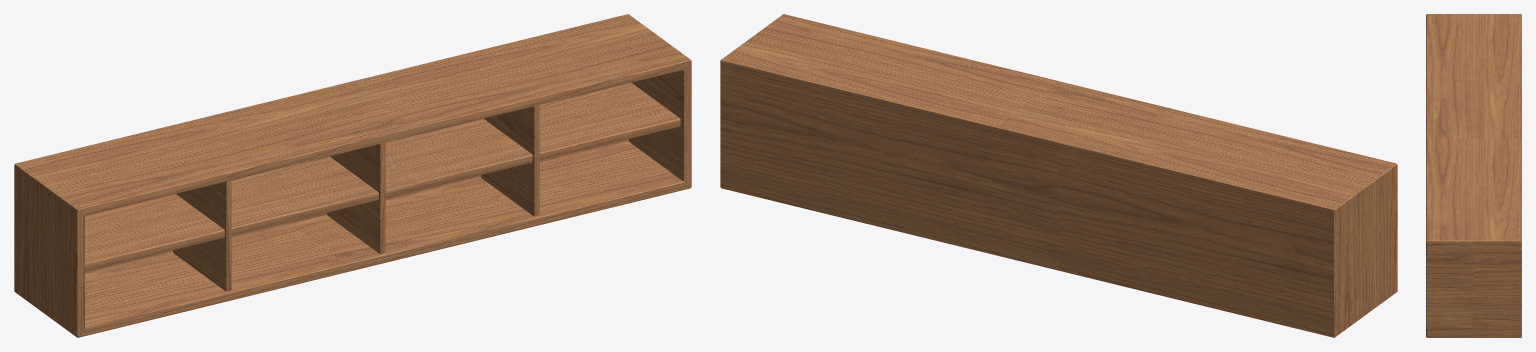
File: SM_shelf_02.fbx
3 views of the same model, side by side, from view 1: azimuth 30°, elevation 25°; view 2: azimuth 150°, elevation 25°; view 3: azimuth 270°, elevation 25° (orthographic). The views are drawn at different scales.
Parts seen in each view (by area): view 1: shelf_03; view 2: shelf_03; view 3: shelf_03.
Part boxes in pixels (x1,y1,x2,y2): shelf_03: [14, 14, 691, 337]; shelf_03: [720, 14, 1397, 337]; shelf_03: [1426, 14, 1521, 337].
Bounding box in the file's own units: 140 × 27.98 × 24.93.
Materials: 1 (1 with a texture image).
